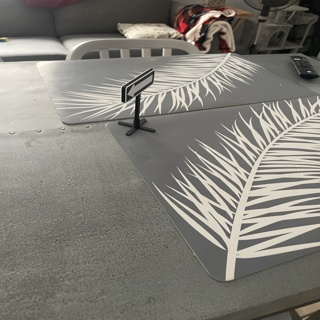sign_oneway_left: (121, 69, 150, 100)
